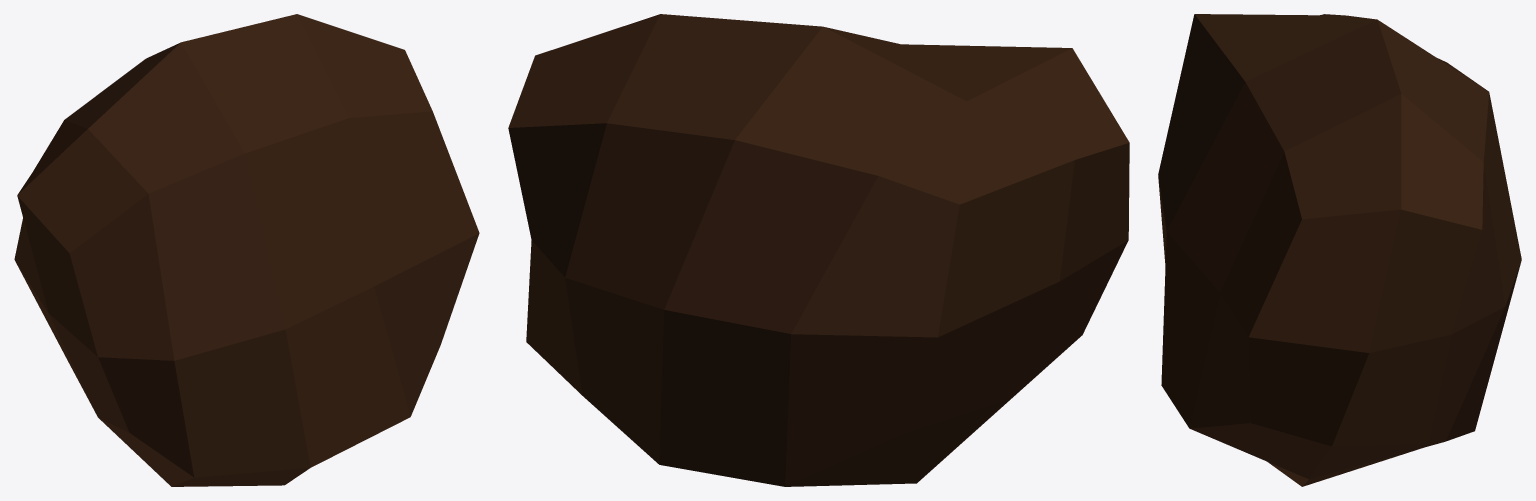
File: Asteroid3Collider.fbx
The picture shows the model from 3 angles, left to right: view 1: azimuth 30°, elevation 25°; view 2: azimuth 150°, elevation 25°; view 3: azimuth 270°, elevation 25°; orthographic projection. The views are drawn at different scales.
Parts seen in each view (by area): view 1: Asteroid3Collider; view 2: Asteroid3Collider; view 3: Asteroid3Collider.
Boxes of the visible parts, bbox=[...] form: Asteroid3Collider: bbox=[14, 14, 479, 486]; Asteroid3Collider: bbox=[508, 14, 1129, 486]; Asteroid3Collider: bbox=[1158, 14, 1521, 486].
Size of the model in its own units: 2232 by 2086 by 1581.
